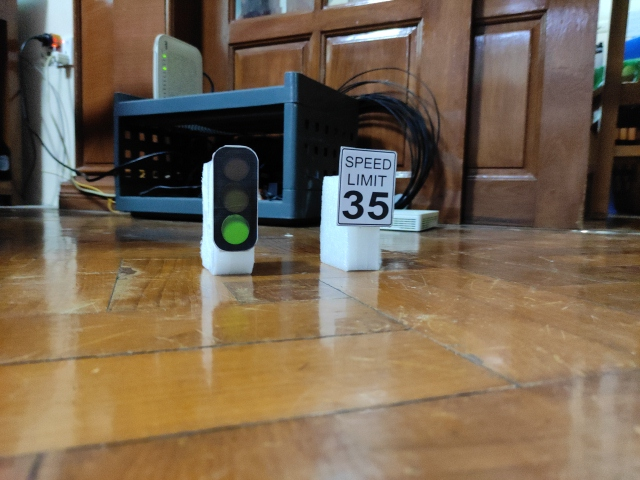Green Traffic Light: (212, 145, 259, 252)
Speed Limit 35: (337, 146, 397, 227)
